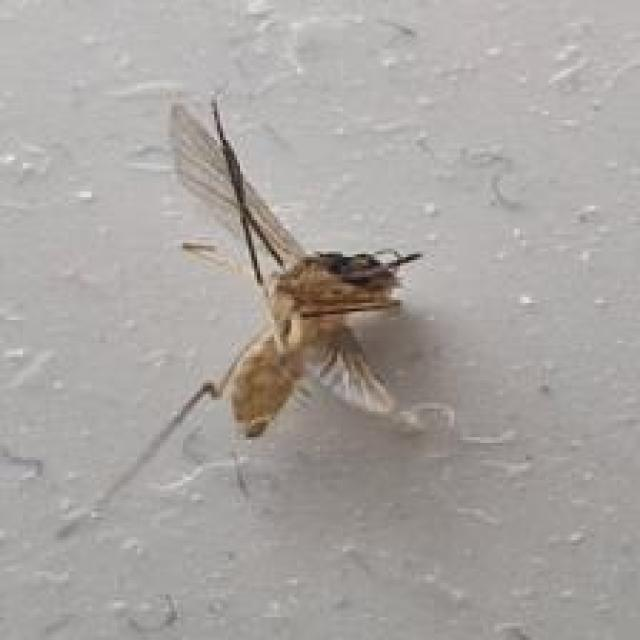Culex: (56, 94, 447, 540)
